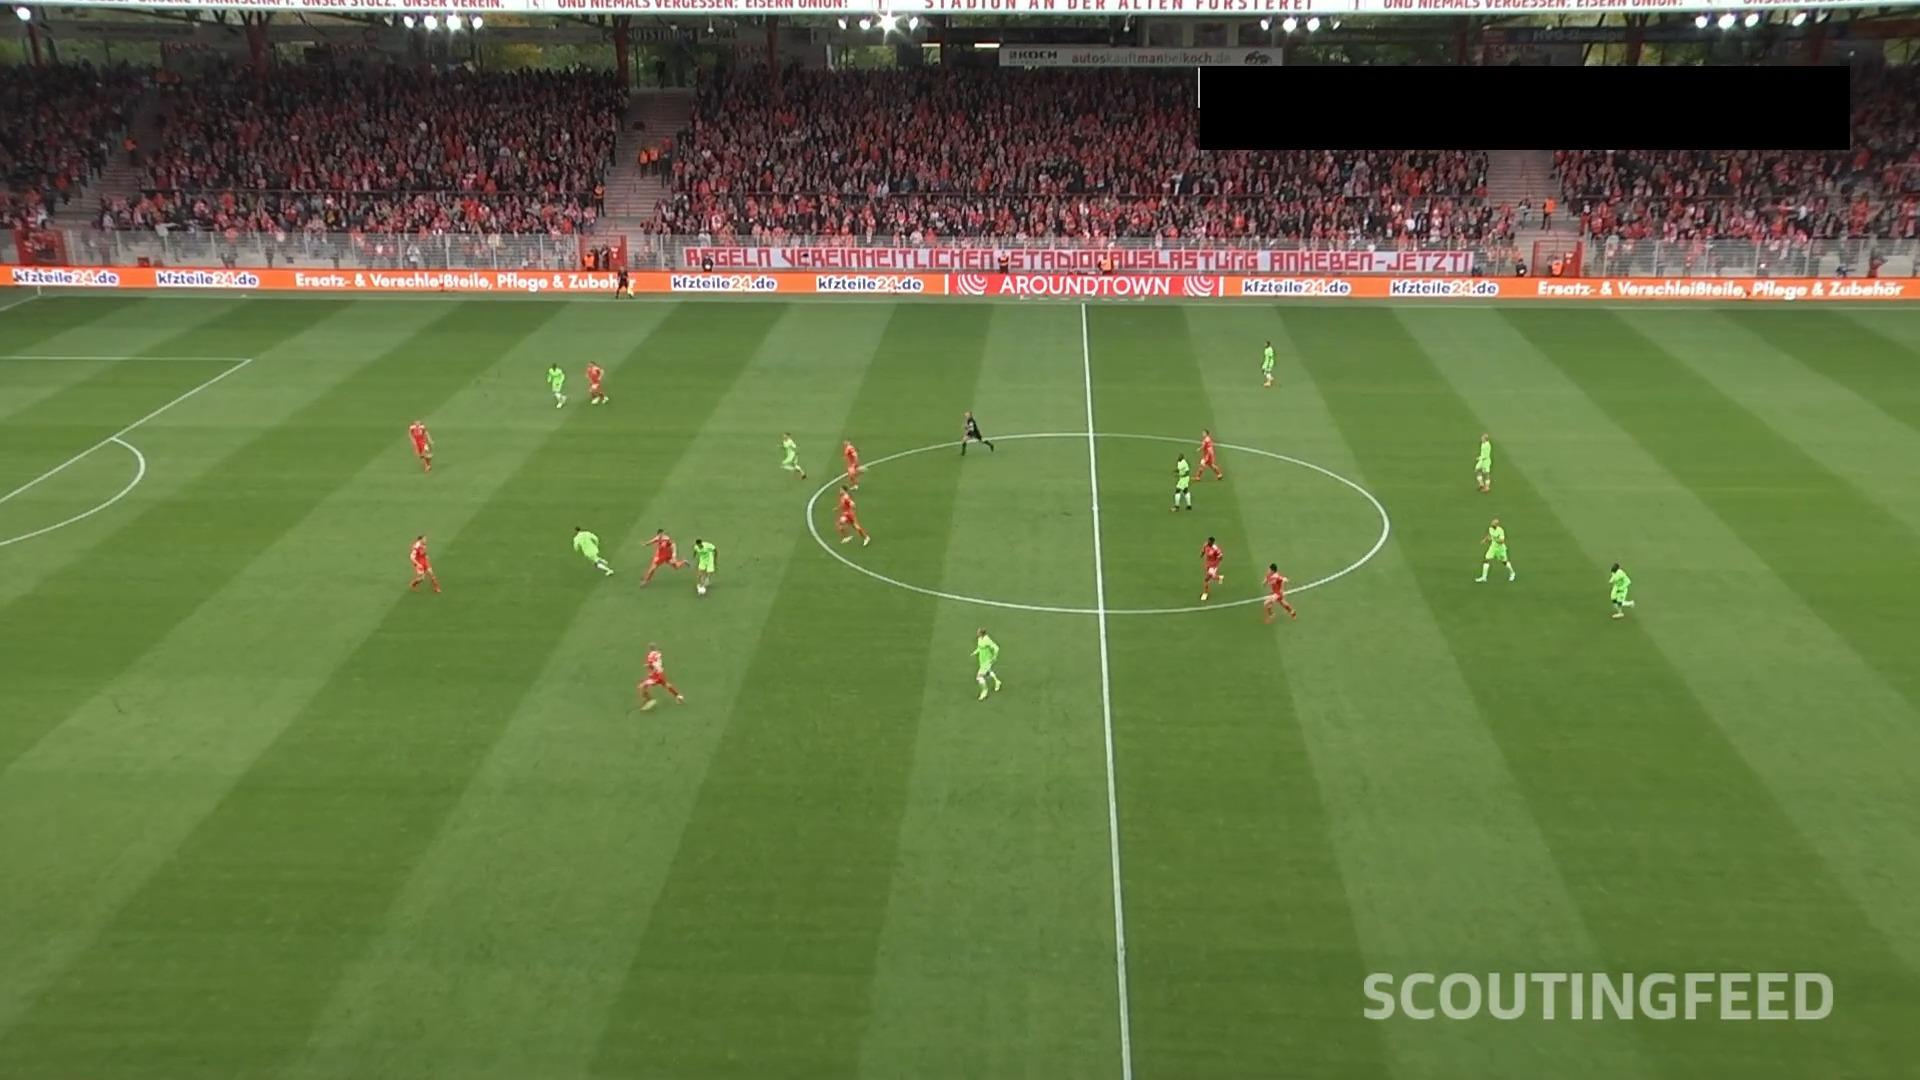ball: (696, 584, 708, 596)
